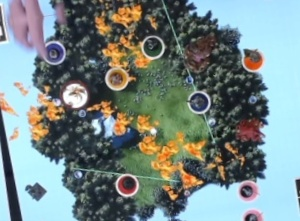blue: (183, 84, 213, 115)
green: (136, 30, 167, 62)
orange: (240, 46, 267, 74)
pink: (231, 176, 261, 205)
red: (111, 167, 141, 198)
violet: (39, 36, 70, 66)
yellow: (101, 61, 132, 92)
